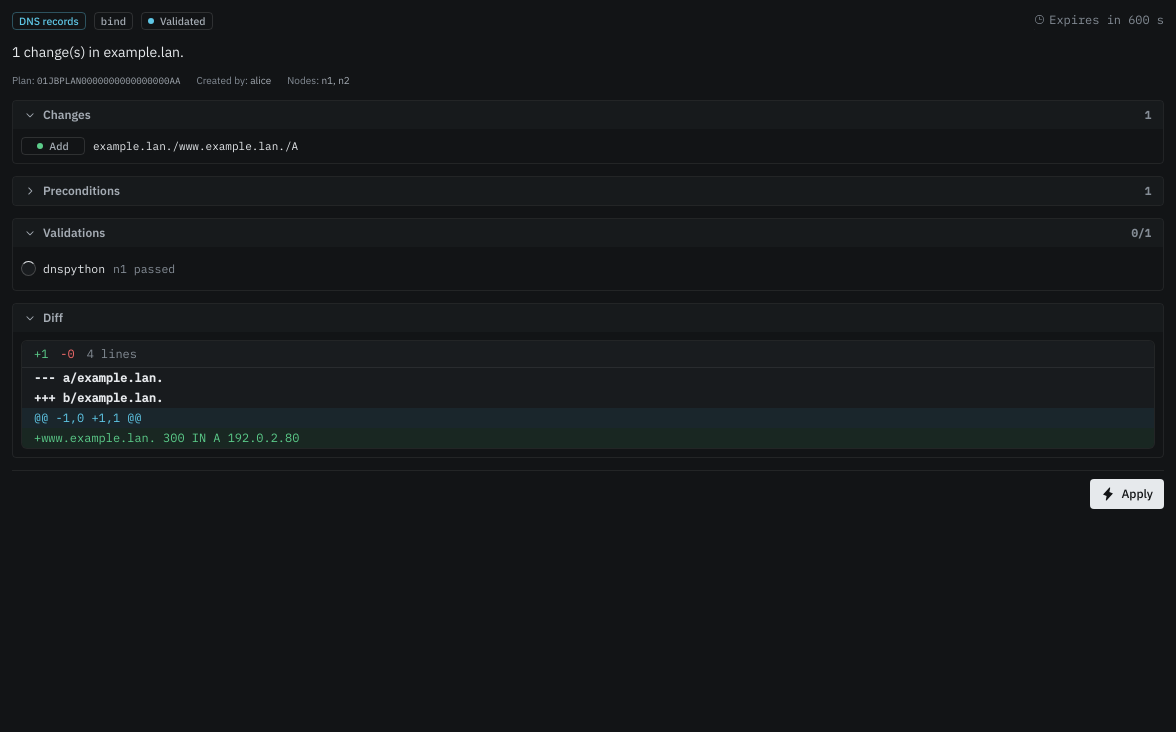
PlanPreview › names the tool of an engine validation error
Click the button with test id "plan-apply" at coordinates (1127, 494), box [1090,479,1164,509]
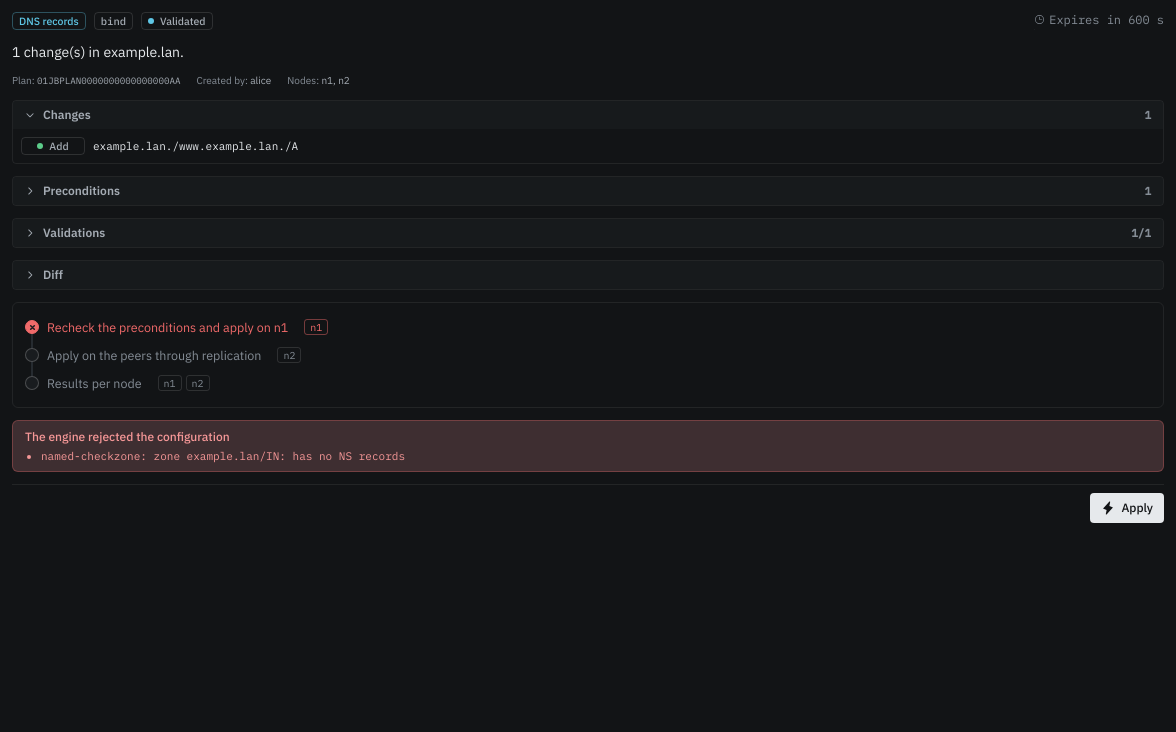
expect the element with test id "plan-apply-error" shows "named-checkzone: zone example.lan/IN": met, box [12,420,1164,472]
